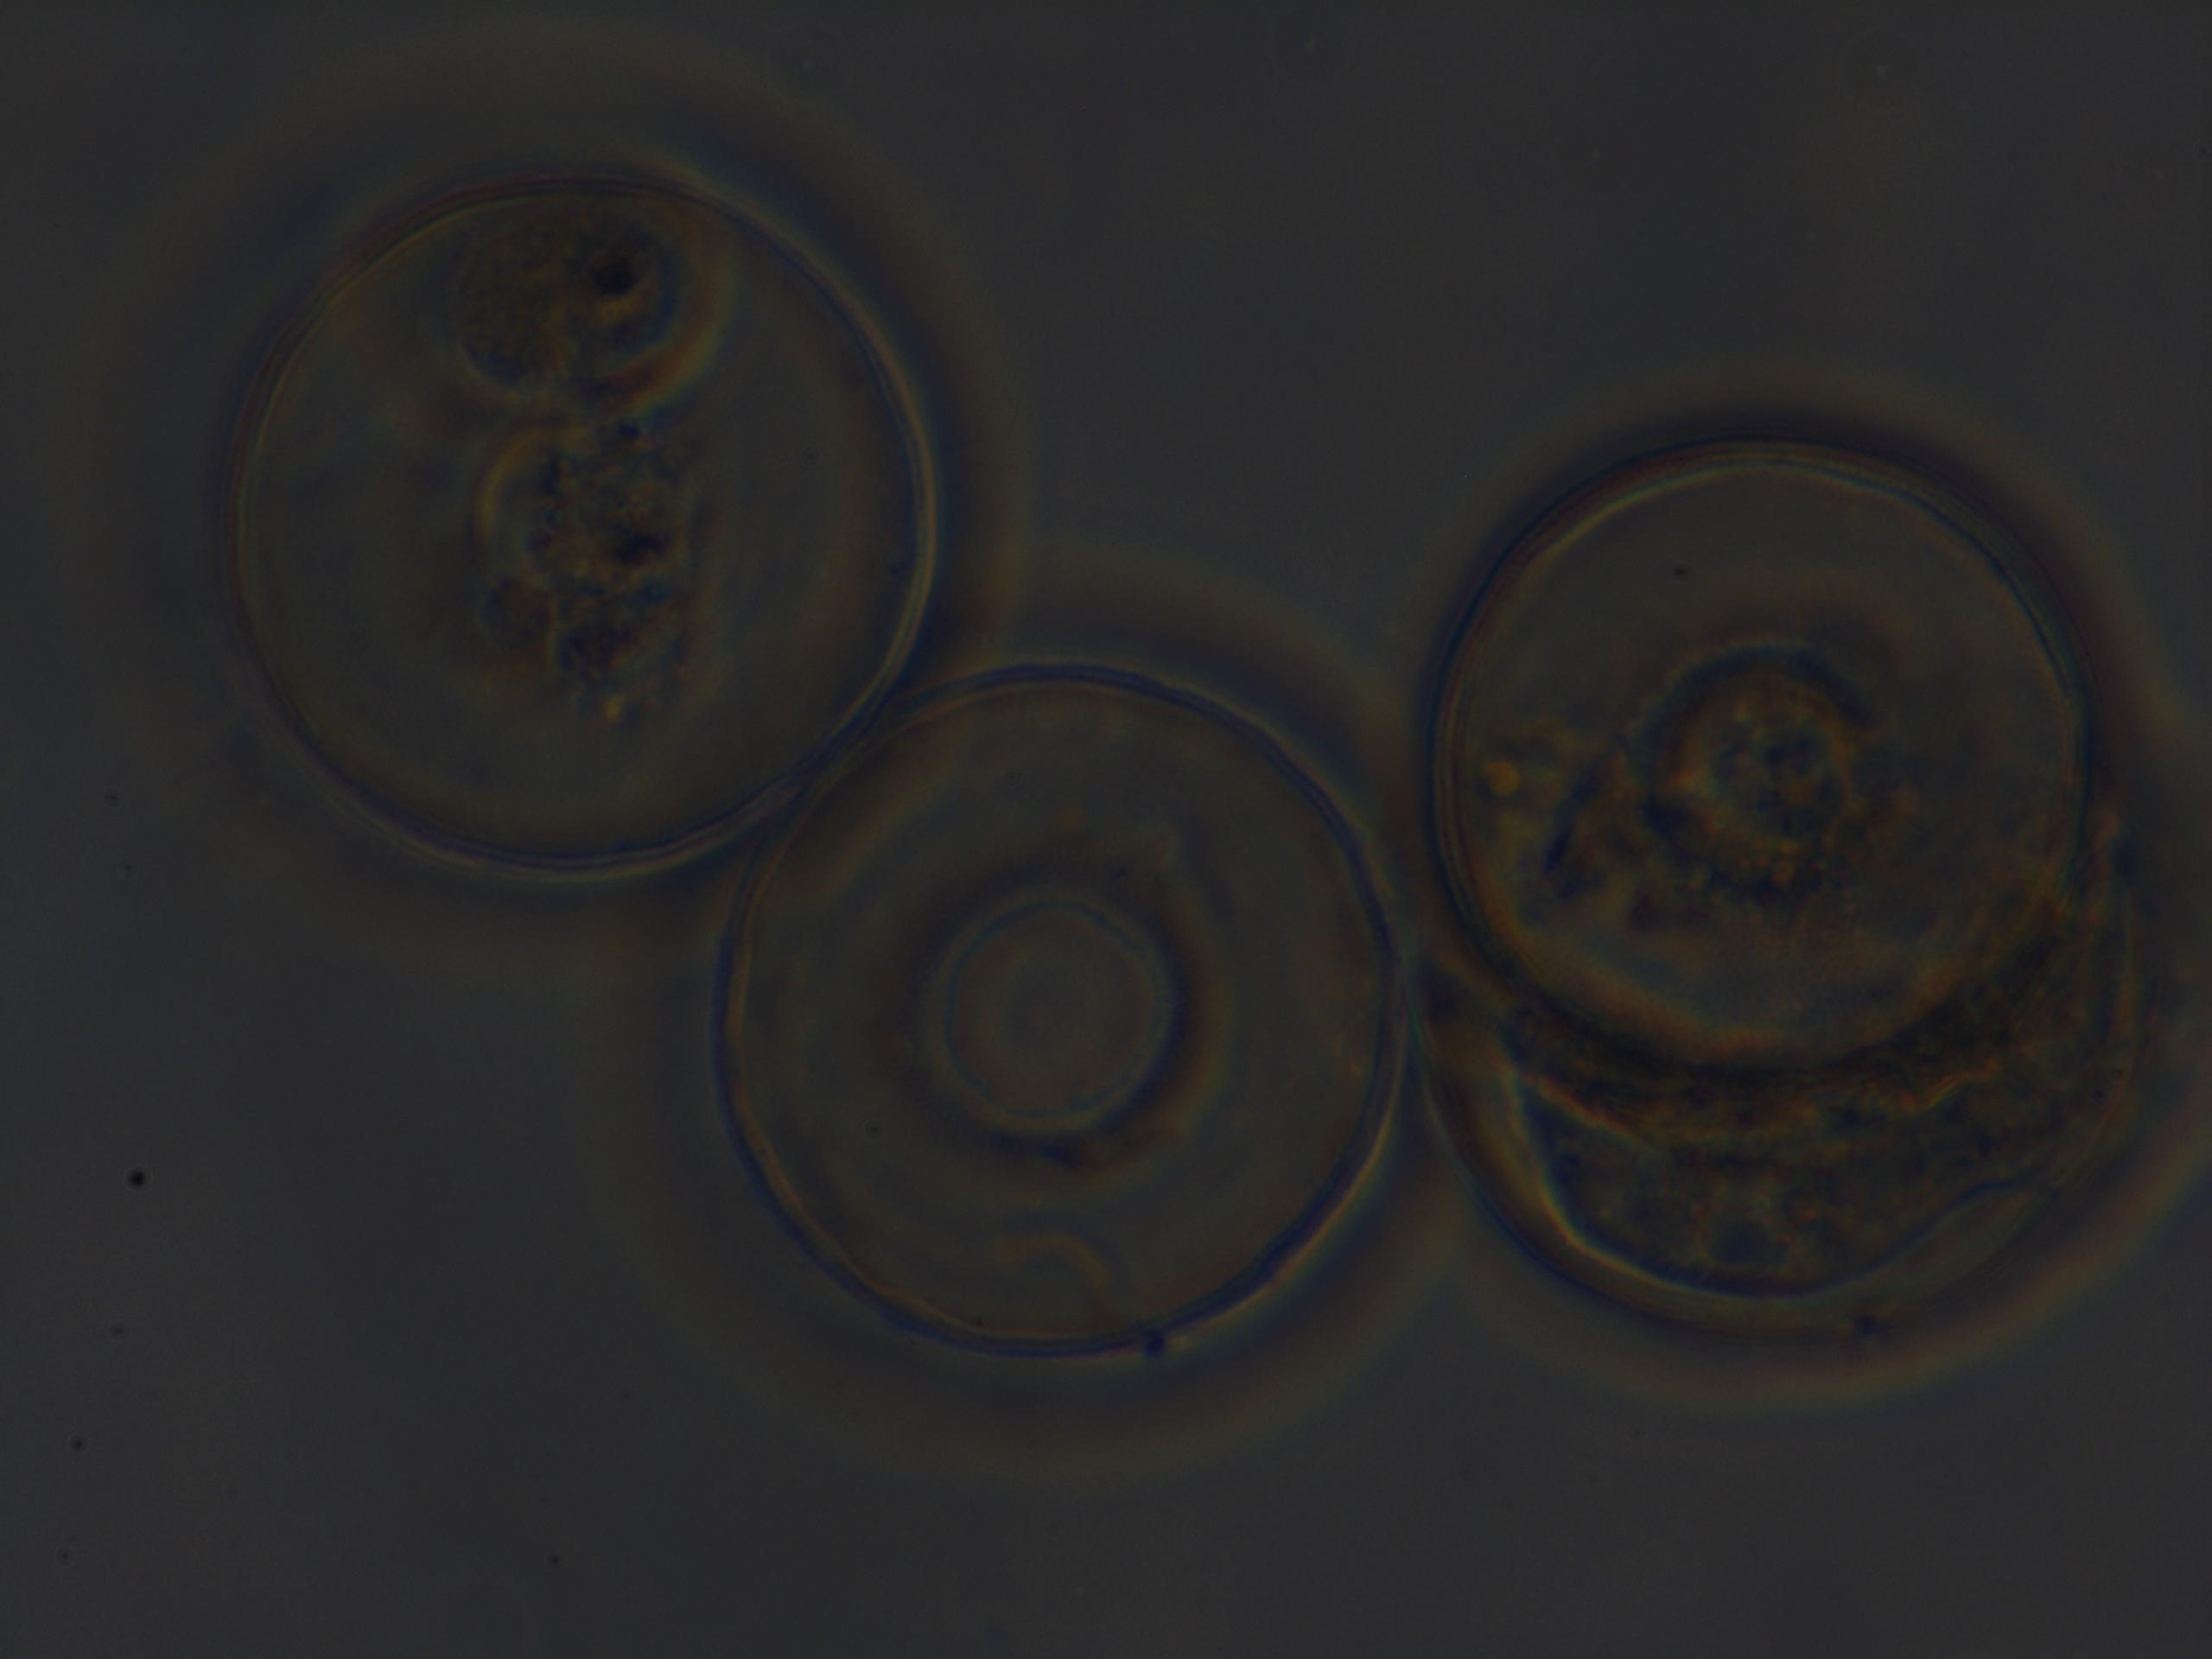protozoa: (110, 58, 1033, 945), (658, 565, 1454, 1408), (1386, 361, 2139, 1091)
